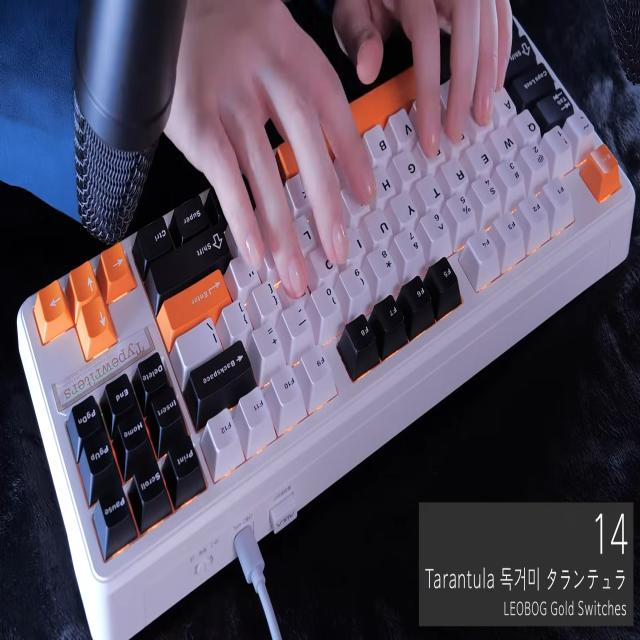keyboard-with-hands: (17, 9, 638, 582)
